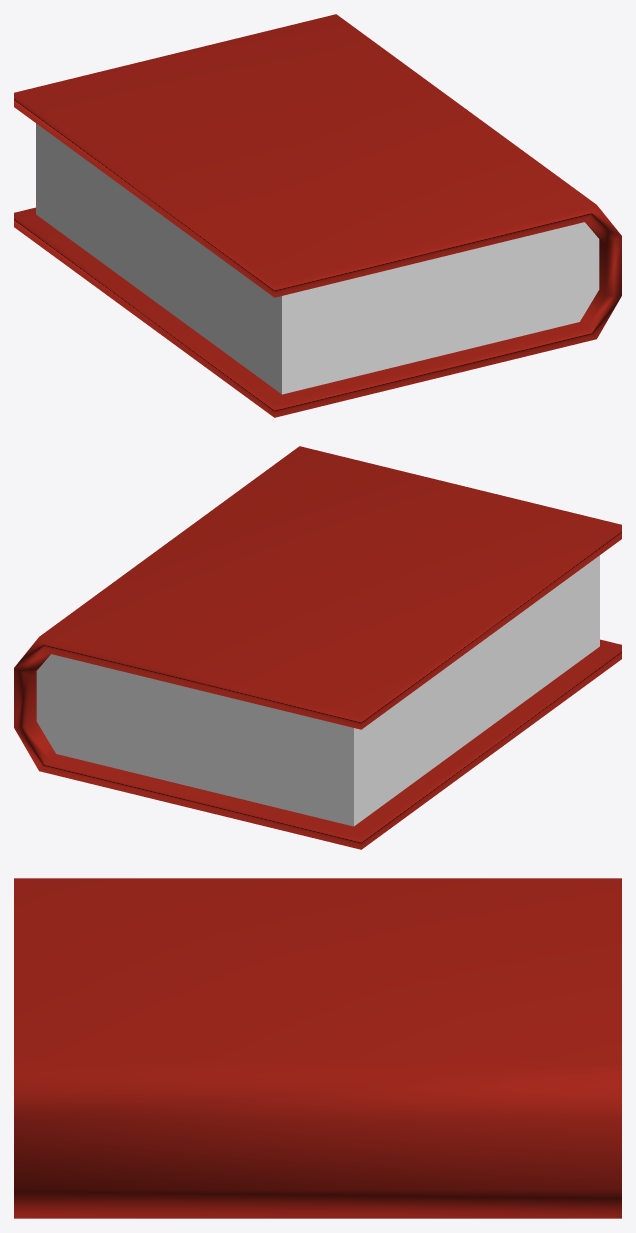
Rendered from SM_Big_Book_01.fbx.
3 renders of one model, top to bottom at view 1: azimuth 30°, elevation 25°; view 2: azimuth 150°, elevation 25°; view 3: azimuth 270°, elevation 25°, orthographic. The views are drawn at different scales.
Visible parts, largest first — view 1: Big Book; view 2: Big Book; view 3: Big Book.
Boxes of the visible parts, x1=… form: Big Book: x1=14, y1=14, x2=621, y2=417; Big Book: x1=14, y1=446, x2=621, y2=849; Big Book: x1=14, y1=878, x2=621, y2=1218.
Size of the model in its own units: 26.95 by 9.96 by 35.
